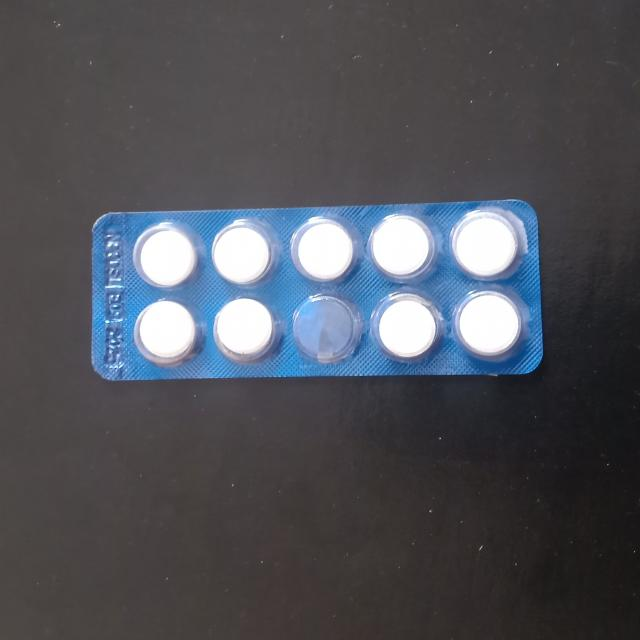defect: (289, 291, 366, 367)
